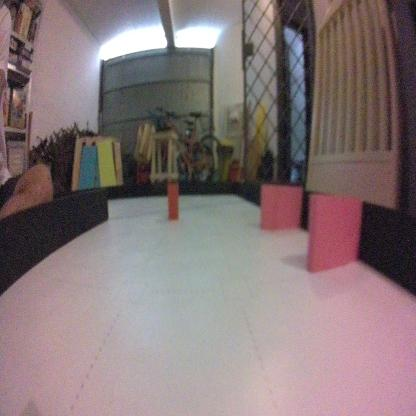magenta: (306, 192, 361, 278), (257, 182, 297, 228)
red: (164, 180, 179, 222)
